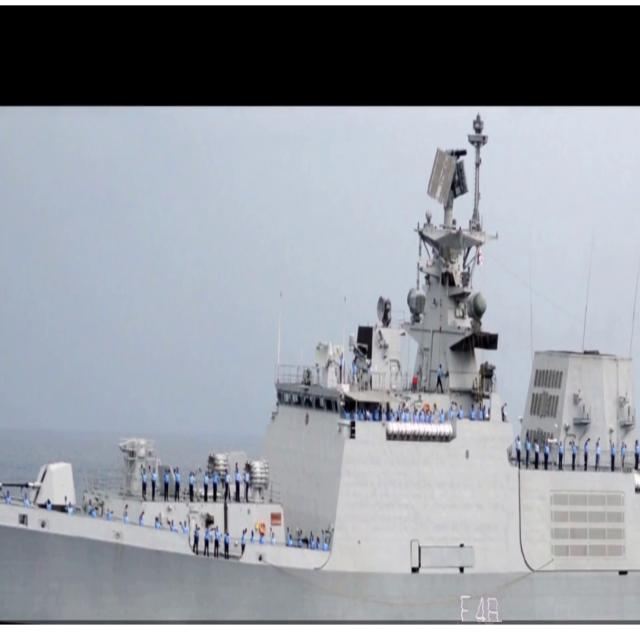OCR: (450, 586, 502, 622)
